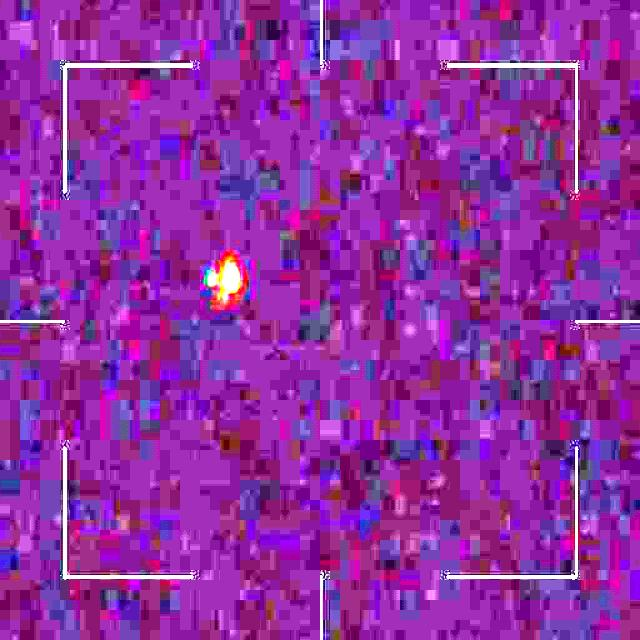bird: (206, 259, 244, 310)
